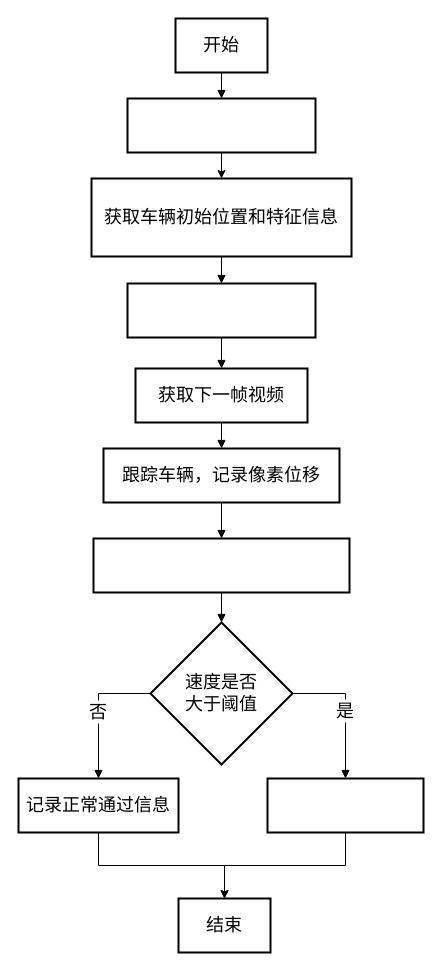
The diagram is 441 pixels wide and 970 high, and some of its shapes have lost their labels. The shapes that lost their labels are listed below. From the top down, each one's centre as x and y in pixels, then its label:
the point at 221,125: 视频获取与预处理
the point at 221,310: 初始化车辆跟踪器
the point at 221,565: 调用 calculate_speeds 方法
the point at 345,805: 记录超速信息
